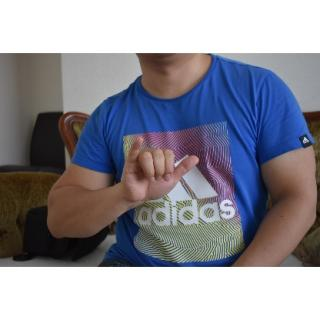YA: (124, 134, 202, 204)
